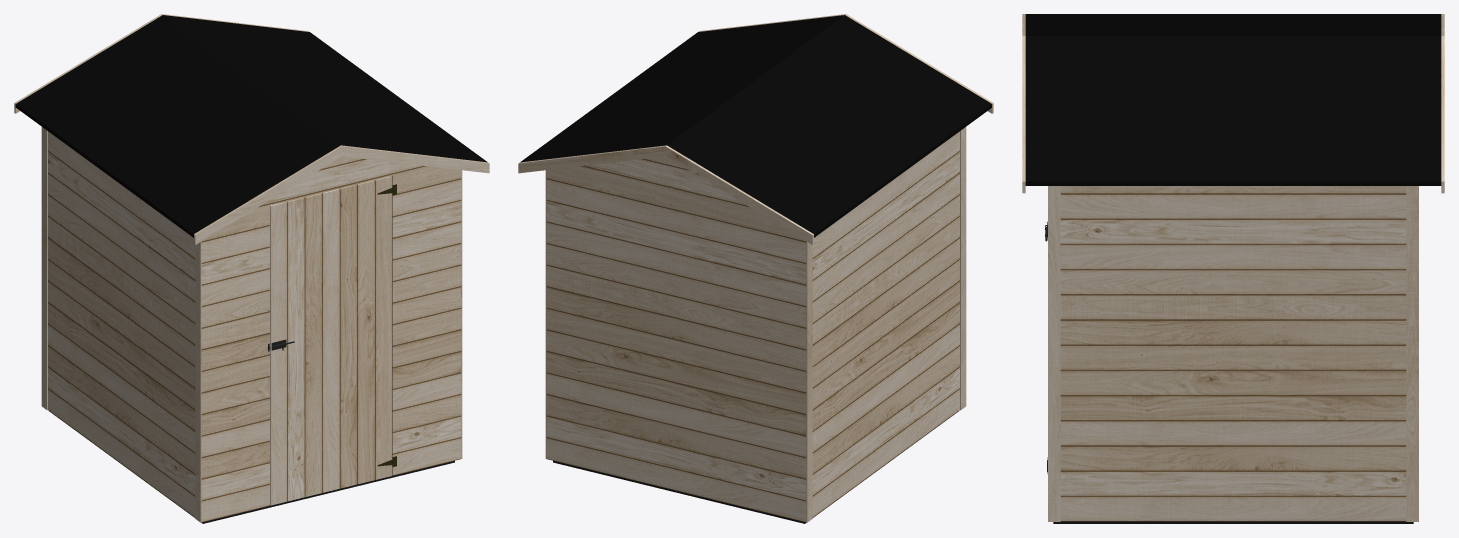
File: garden-hut.obj
3 renders of one model, left to right at view 1: azimuth 30°, elevation 25°; view 2: azimuth 150°, elevation 25°; view 3: azimuth 270°, elevation 25°, orthographic. The views are drawn at different scales.
Visible parts, largest first — view 1: walls_Cube.005, roof_Cube.006, sweethome3d_opening_on_hinge_1_door_Cube.004, hut_Cube; view 2: walls_Cube.005, roof_Cube.006, hut_Cube; view 3: walls_Cube.005, roof_Cube.006, hut_Cube.
Boxes of the visible parts, box(x1,y1,x2,y2) form: walls_Cube.005: box(48, 131, 461, 522); roof_Cube.006: box(14, 14, 489, 244); sweethome3d_opening_on_hinge_1_door_Cube.004: box(270, 176, 392, 505); hut_Cube: box(41, 127, 462, 523); walls_Cube.005: box(546, 131, 959, 522); roof_Cube.006: box(518, 14, 993, 244); hut_Cube: box(545, 127, 966, 523); walls_Cube.005: box(1060, 186, 1406, 521); roof_Cube.006: box(1022, 14, 1444, 193); hut_Cube: box(1048, 186, 1418, 523).
Size of the model in its own units: 171 by 198 by 182.
